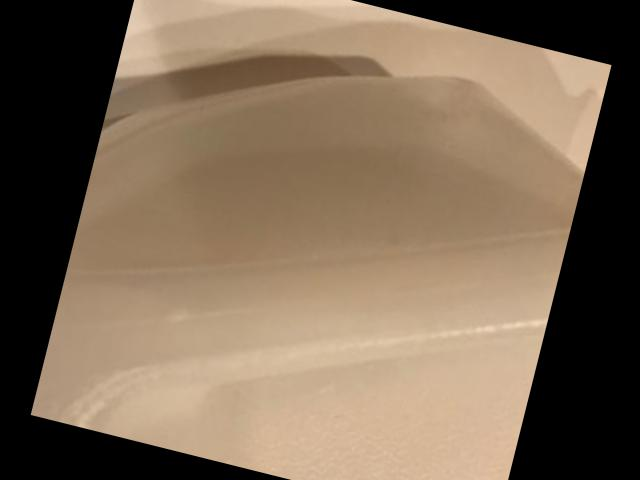plastic: (29, 79, 583, 480)
